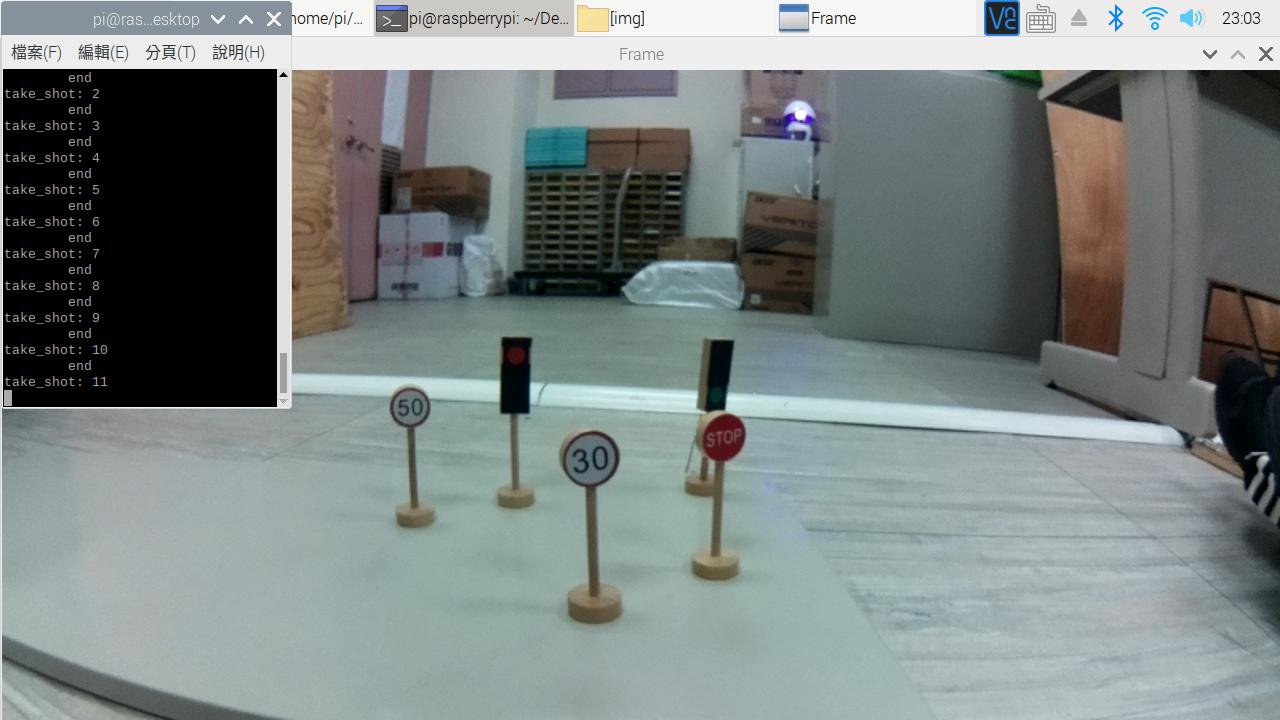Green: (705, 335, 728, 409)
Red: (497, 338, 531, 416)
Speed30: (561, 431, 625, 486)
Speed50: (389, 387, 433, 425)
Stop: (698, 416, 750, 460)
